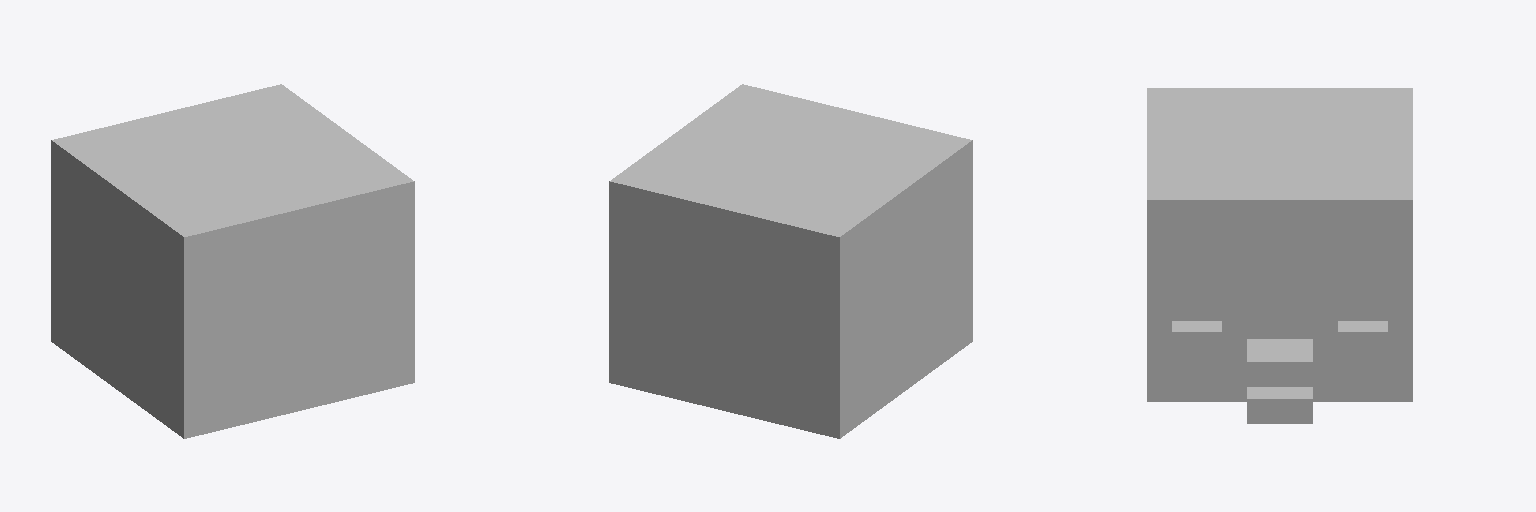
File: building_023.obj
3 views of the same model, side by side, from view 1: azimuth 30°, elevation 25°; view 2: azimuth 150°, elevation 25°; view 3: azimuth 270°, elevation 25° (orthographic).
Parts seen in each view (by area): view 1: building_023; view 2: building_023; view 3: building_023.
Boxes of the visible parts, box(x1,y1,x2,y2) form: building_023: box(51, 84, 414, 438); building_023: box(609, 84, 972, 438); building_023: box(1147, 88, 1412, 423).
Bounding box in the file's own units: 1.2 × 0.8375 × 1.